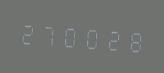eight: (123, 22, 143, 57)
seven: (38, 17, 58, 51)
two: (17, 15, 37, 49), (102, 21, 122, 55)
zero: (81, 19, 101, 54), (60, 18, 80, 52)
